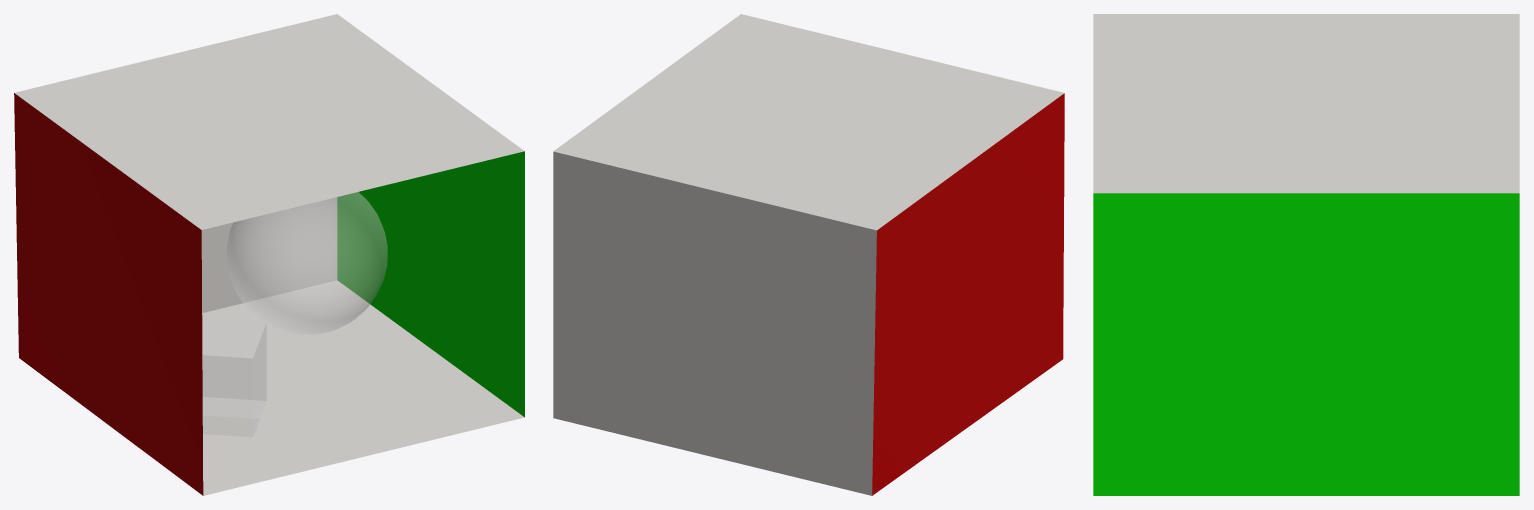
The model's file is redball.gltf.
The picture shows the model from 3 angles, left to right: view 1: azimuth 30°, elevation 25°; view 2: azimuth 150°, elevation 25°; view 3: azimuth 270°, elevation 25°; orthographic projection. The views are drawn at different scales.
Visible parts, largest first — view 1: white.002, red, white, green, CornellBox-Glossy-Floor.002, white.001, CornellBox-Glossy-Floor.003; view 2: white.001, white.002, red; view 3: green, white.002.
Boxes of the visible parts, x1,y1,x2,y2 form: white.002: (14,14,524,229); red: (14,93,203,495); white: (202,280,524,495); green: (337,151,524,417); CornellBox-Glossy-Floor.002: (227,192,387,334); white.001: (201,197,337,312); CornellBox-Glossy-Floor.003: (202,318,266,436); white.001: (553,151,876,495); white.002: (553,14,1064,230); red: (872,93,1064,495); green: (1093,193,1519,495); white.002: (1093,14,1519,193).
Size of the model in its own units: 2.02 by 1.59 by 2.03.
